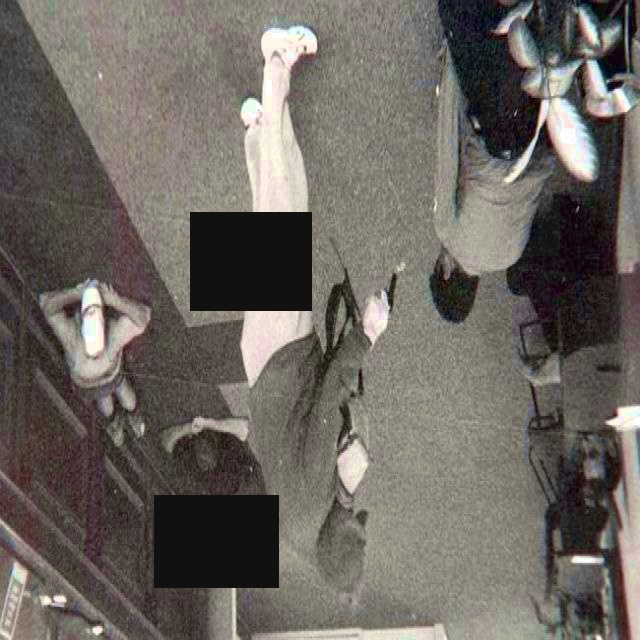gun: (358, 253, 406, 344)
